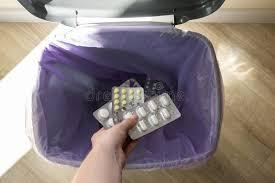pill_Strip: (119, 93, 180, 138), (129, 94, 180, 138), (112, 87, 144, 121), (112, 87, 143, 111), (144, 77, 170, 100), (93, 101, 115, 127), (120, 78, 140, 86), (160, 108, 171, 120), (98, 108, 109, 119), (148, 114, 158, 125), (136, 107, 146, 117), (159, 96, 168, 106), (138, 120, 147, 130), (148, 100, 156, 111), (105, 118, 113, 127), (106, 102, 111, 114), (121, 97, 126, 106), (123, 113, 131, 118), (113, 93, 119, 99), (121, 87, 126, 94), (113, 105, 119, 110), (136, 125, 141, 130), (113, 100, 119, 104), (113, 88, 118, 92), (128, 96, 133, 99)
